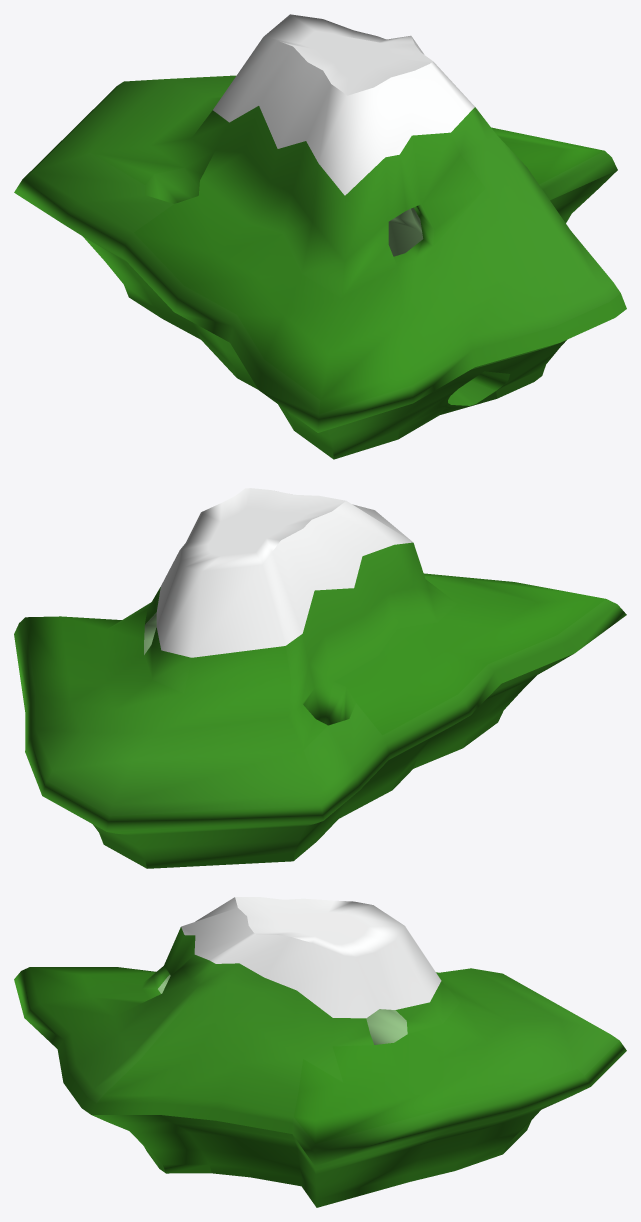
Rendered from v 01Parkour Mouatin 4 Ice ISlands.fbx.
The picture shows the model from 3 angles, top to bottom: view 1: azimuth 30°, elevation 25°; view 2: azimuth 150°, elevation 25°; view 3: azimuth 270°, elevation 25°; orthographic projection. The views are drawn at different scales.
Visible parts, largest first — view 1: Sub_Island; view 2: Sub_Island; view 3: Sub_Island.
Boxes of the visible parts, x1=… form: Sub_Island: x1=14, y1=14, x2=626, y2=459; Sub_Island: x1=14, y1=488, x2=626, y2=868; Sub_Island: x1=14, y1=897, x2=626, y2=1207.
Size of the model in its own units: 15.53 by 8.52 by 21.53.
